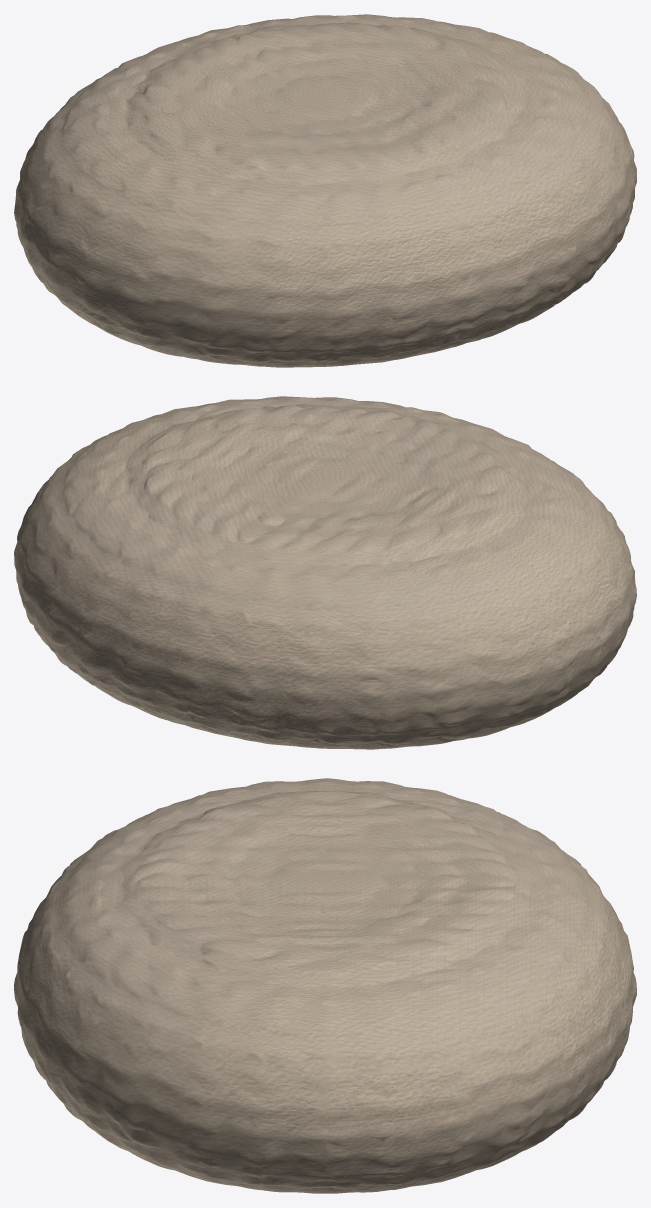
The picture shows the model from 3 angles, top to bottom: view 1: azimuth 30°, elevation 25°; view 2: azimuth 150°, elevation 25°; view 3: azimuth 270°, elevation 25°; orthographic projection. The views are drawn at different scales.
Parts seen in each view (by area): view 1: tripo_node_4c22fa09; view 2: tripo_node_4c22fa09; view 3: tripo_node_4c22fa09.
Part boxes in pixels (<box>): tripo_node_4c22fa09: <box>14,14,636,367</box>; tripo_node_4c22fa09: <box>14,396,636,749</box>; tripo_node_4c22fa09: <box>14,778,636,1193</box>.
Bounding box in the file's own units: 99.98 × 33.89 × 87.66.
